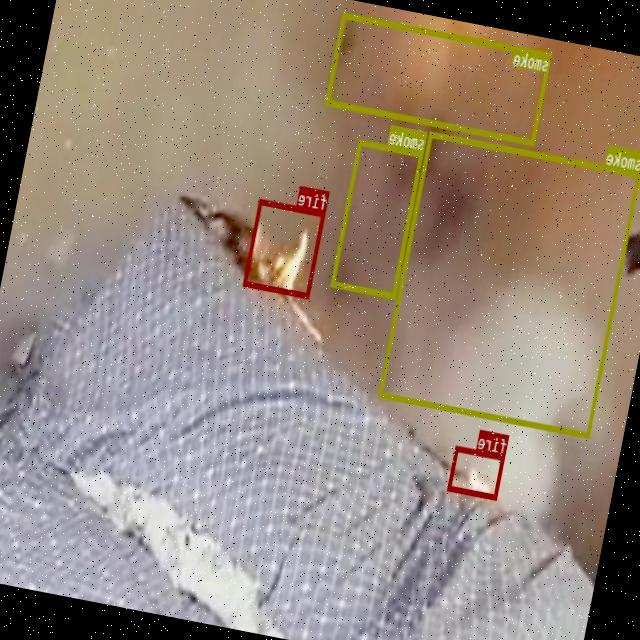fire: (244, 198, 326, 298), (448, 445, 507, 499)
smoke: (379, 130, 640, 437), (326, 11, 553, 146), (332, 139, 425, 299)
